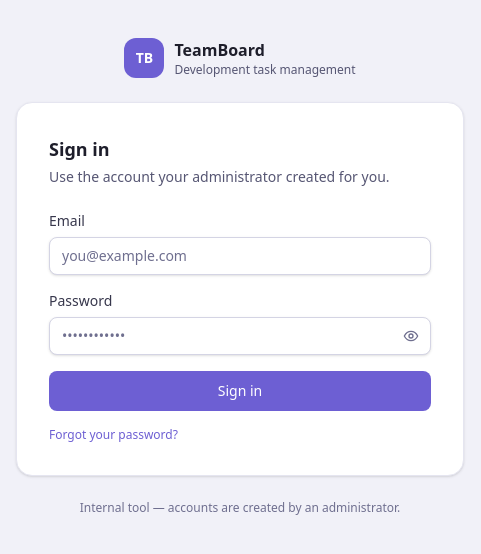
Test: LoginPage › shows validation messages for missing input
Step 1. Click the button "Sign in" → (240, 391), box 49,371 -> 431,411
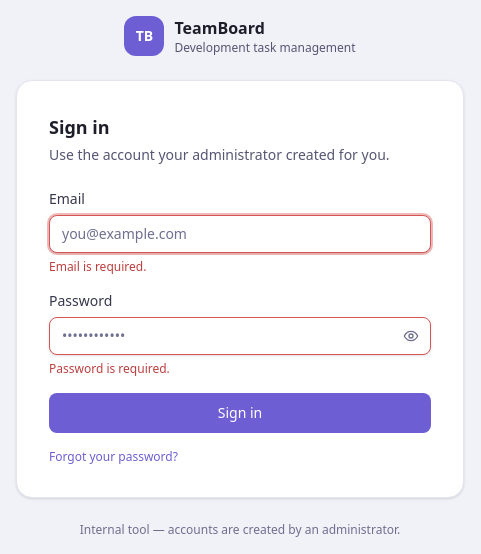
Result: the text "Email is required." is shown at 49,258 -> 146,275
Result: the text "Password is required." is shown at 49,360 -> 170,377
